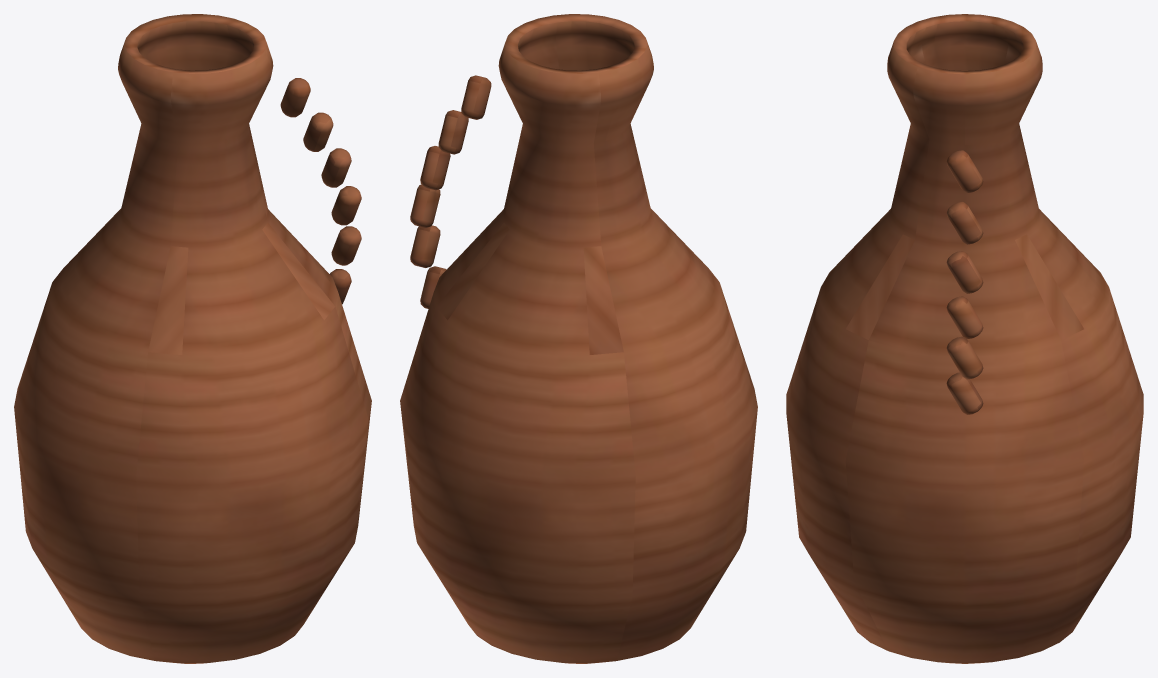
The model's file is p_waterjug.glb.
The picture shows the model from 3 angles, left to right: view 1: azimuth 30°, elevation 25°; view 2: azimuth 150°, elevation 25°; view 3: azimuth 270°, elevation 25°; orthographic projection.
Visible parts, largest first — view 1: waterjug; view 2: waterjug; view 3: waterjug.
Boxes of the visible parts, box(x1,y1,x2,y2) form: waterjug: box(14, 14, 371, 663); waterjug: box(400, 14, 757, 663); waterjug: box(786, 14, 1143, 663).
Bounding box in the file's own units: 0.4276 × 0.76 × 0.4127.
1 material, 1 textured.
